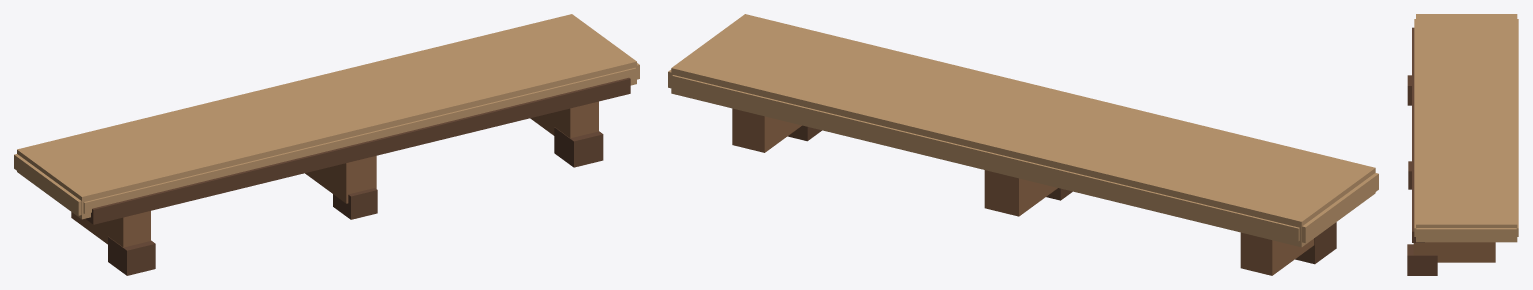
File: deco_furn_sill.obj
3 renders of one model, left to right at view 1: azimuth 30°, elevation 25°; view 2: azimuth 150°, elevation 25°; view 3: azimuth 270°, elevation 25°, orthographic. The views are drawn at different scales.
Parts seen in each view (by area): view 1: deco_furn_sill; view 2: deco_furn_sill; view 3: deco_furn_sill.
Part boxes in pixels (left/top/right/bottom): deco_furn_sill: left=14, top=14, right=639, bottom=275; deco_furn_sill: left=668, top=14, right=1378, bottom=275; deco_furn_sill: left=1407, top=14, right=1518, bottom=275.
Bounding box in the file's own units: 1.26 × 0.182 × 0.278.
1 material, 1 textured.
